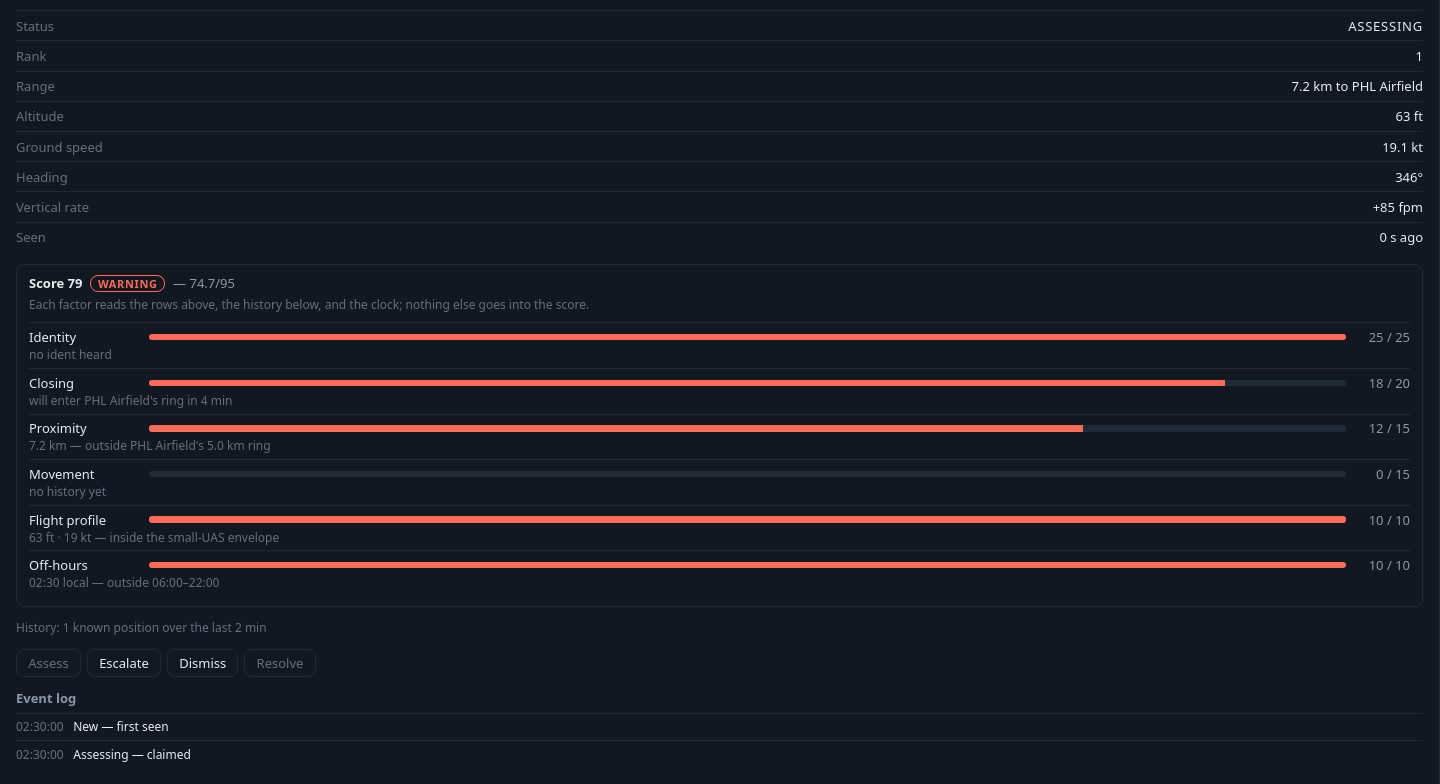
ReviewDrawer › escalates through the picker, and Cancel backs out without an event (03b)
(page scrolled)
// Cancel: the picker closes and nothing fires (ruled on #3).
Click the button "Escalate" at (124, 662), box [87,648,161,676]
(page scrolled)
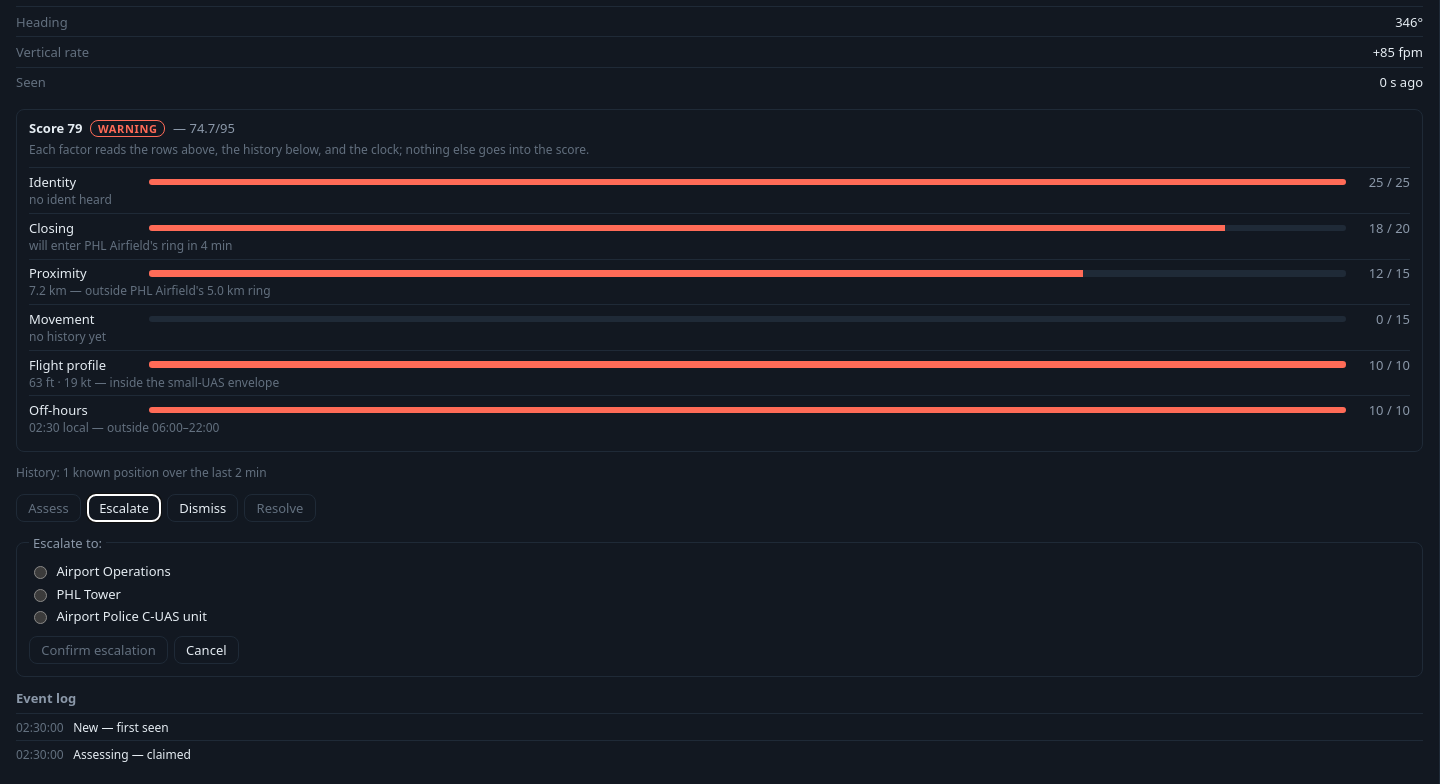
Expected: the text "Escalate to:" is shown, [29,534,106,552]
Click the button "Cancel" at (206, 650), box [174,636,239,664]
(page scrolled)
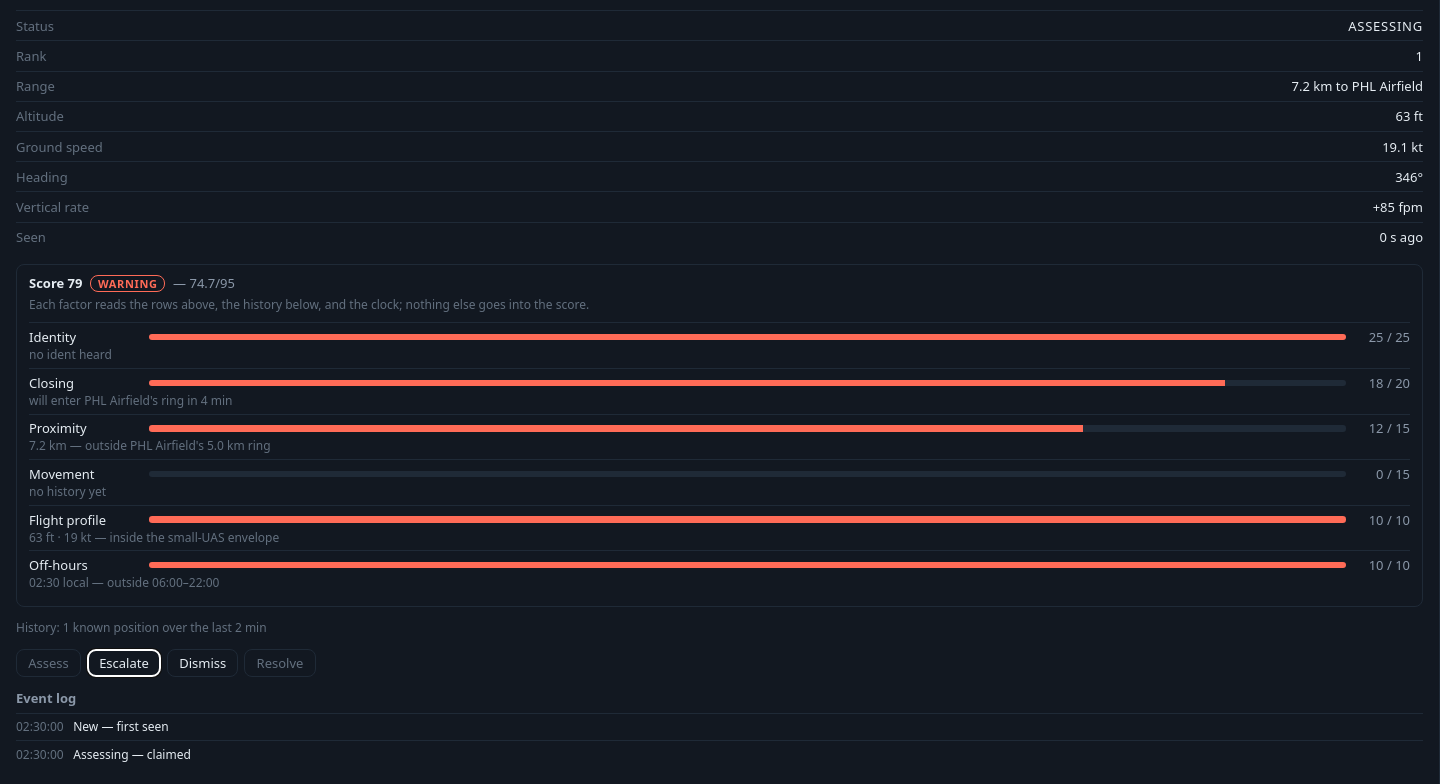
Expected: the text "Escalate to:" is gone
// Confirm requires a recipient, then carries it.
Click the button "Escalate" at (124, 662), box [87,648,161,676]
(page scrolled)
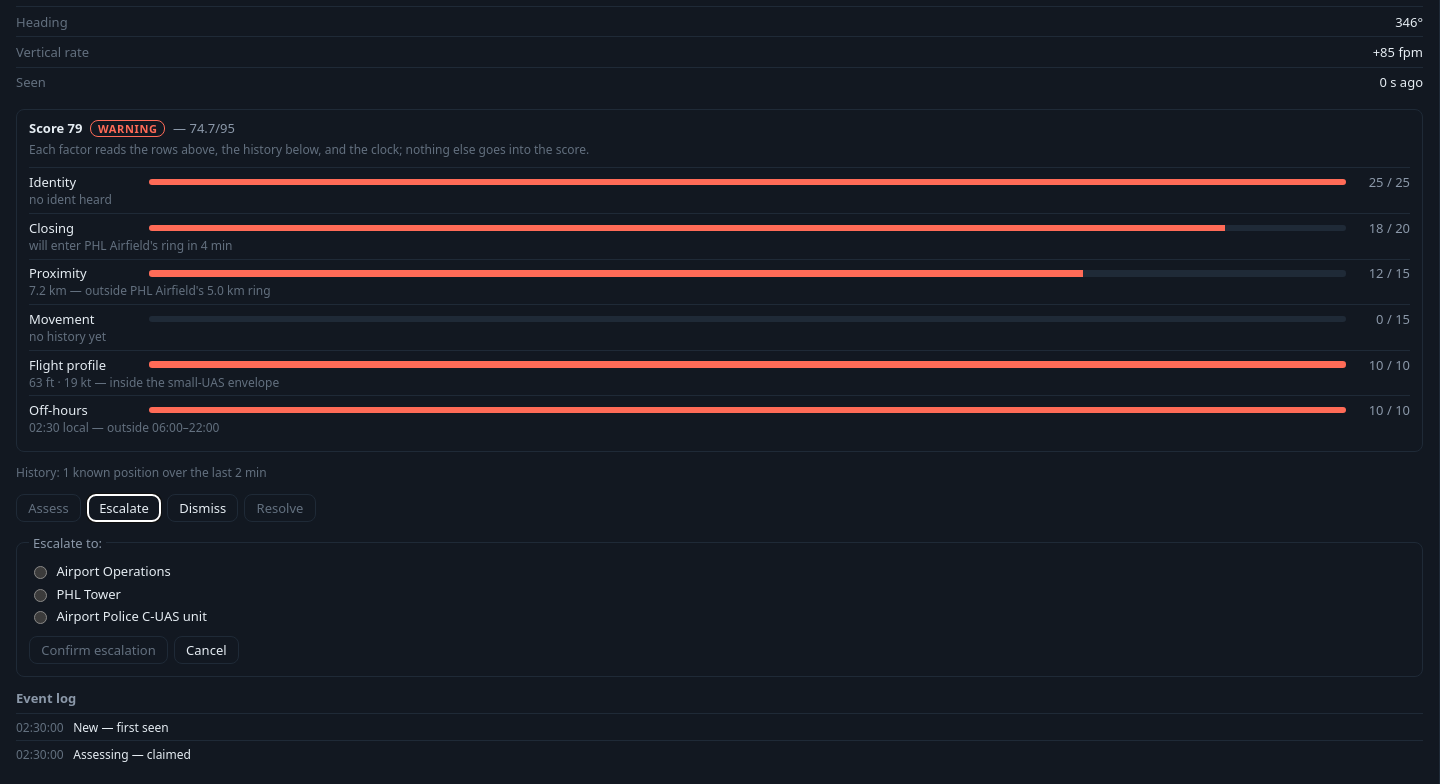
Expected: the button "Confirm escalation" is disabled, [29,636,168,664]
Click the radio button labelled "PHL Tower" at (40, 595), box [34,589,47,602]
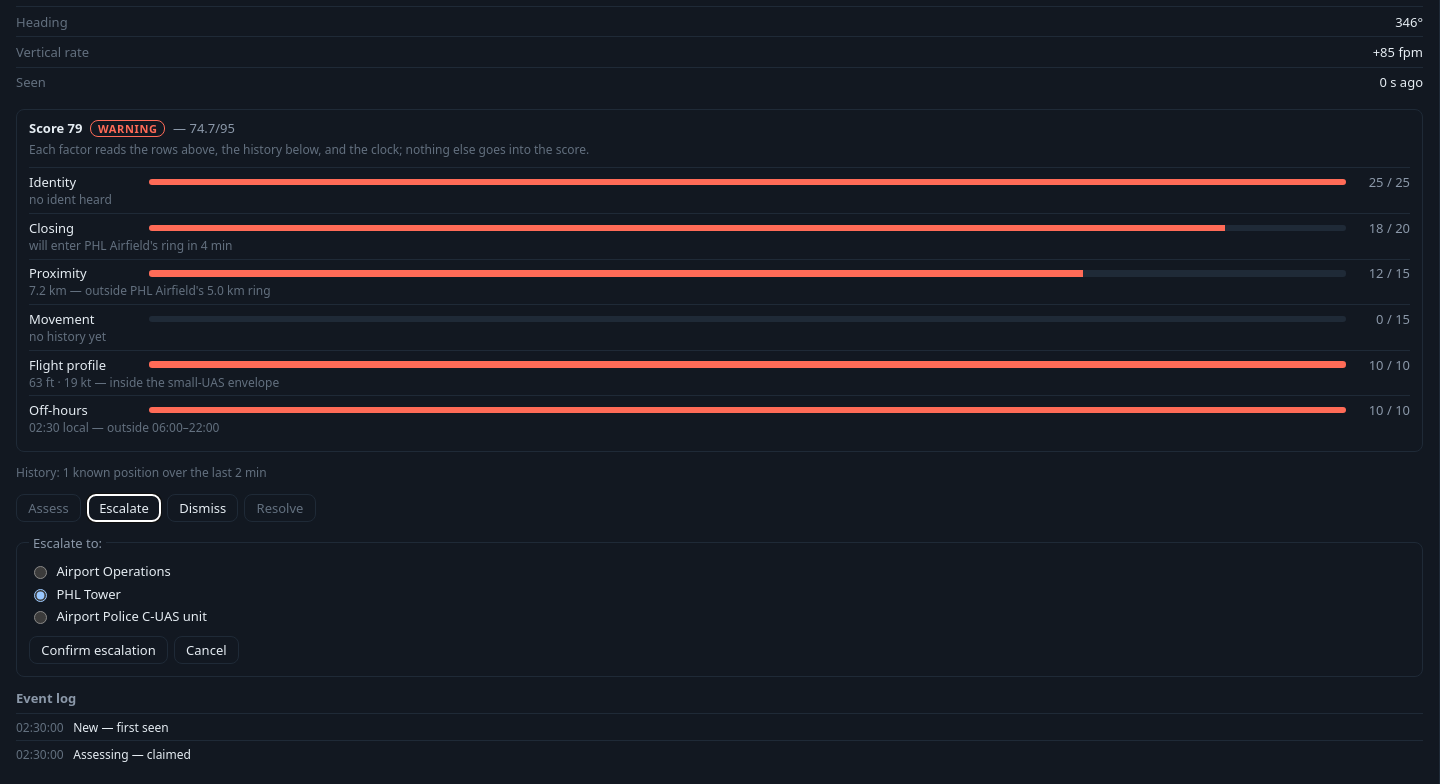
Click the button "Confirm escalation" at (98, 650), box [29,636,168,664]
(page scrolled)
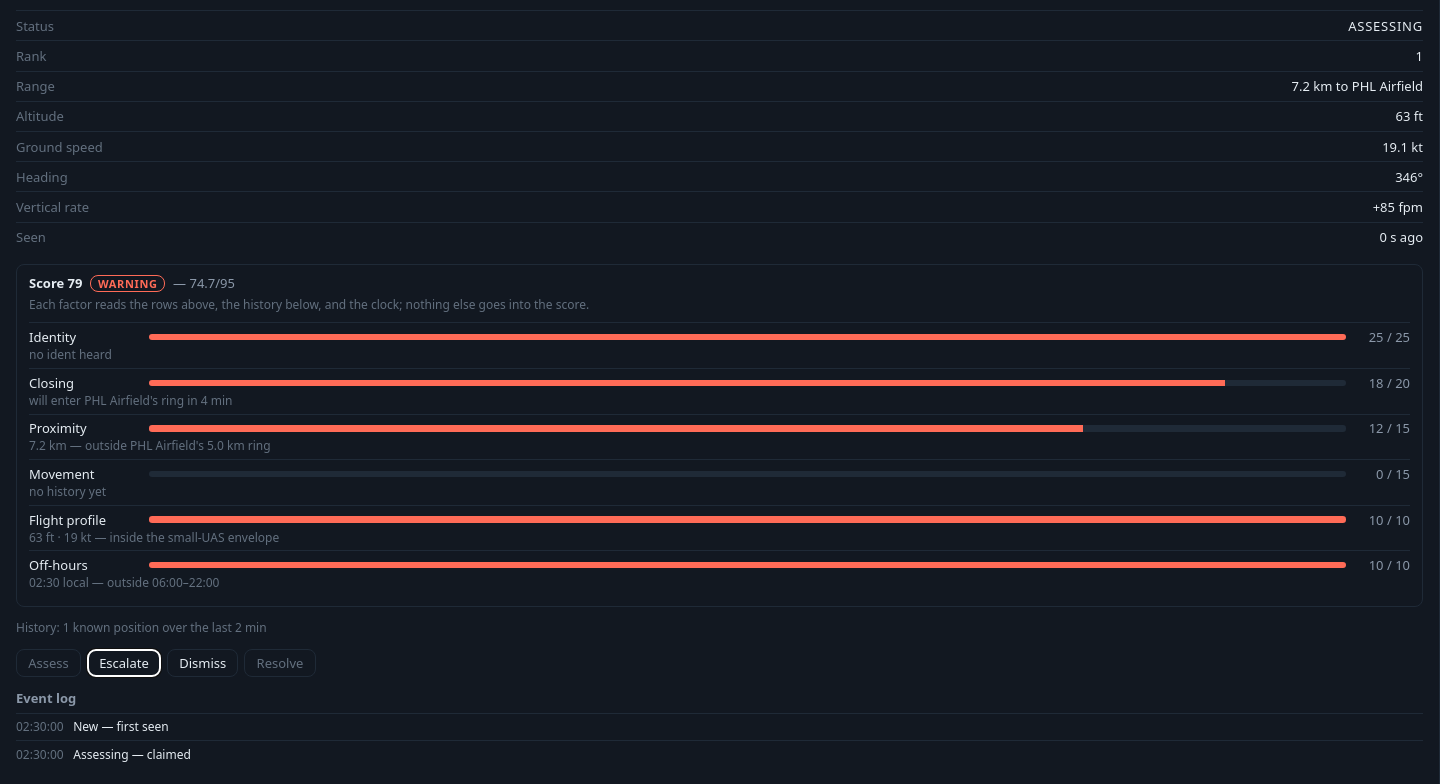
Expected: the text "Escalate to:" is gone
